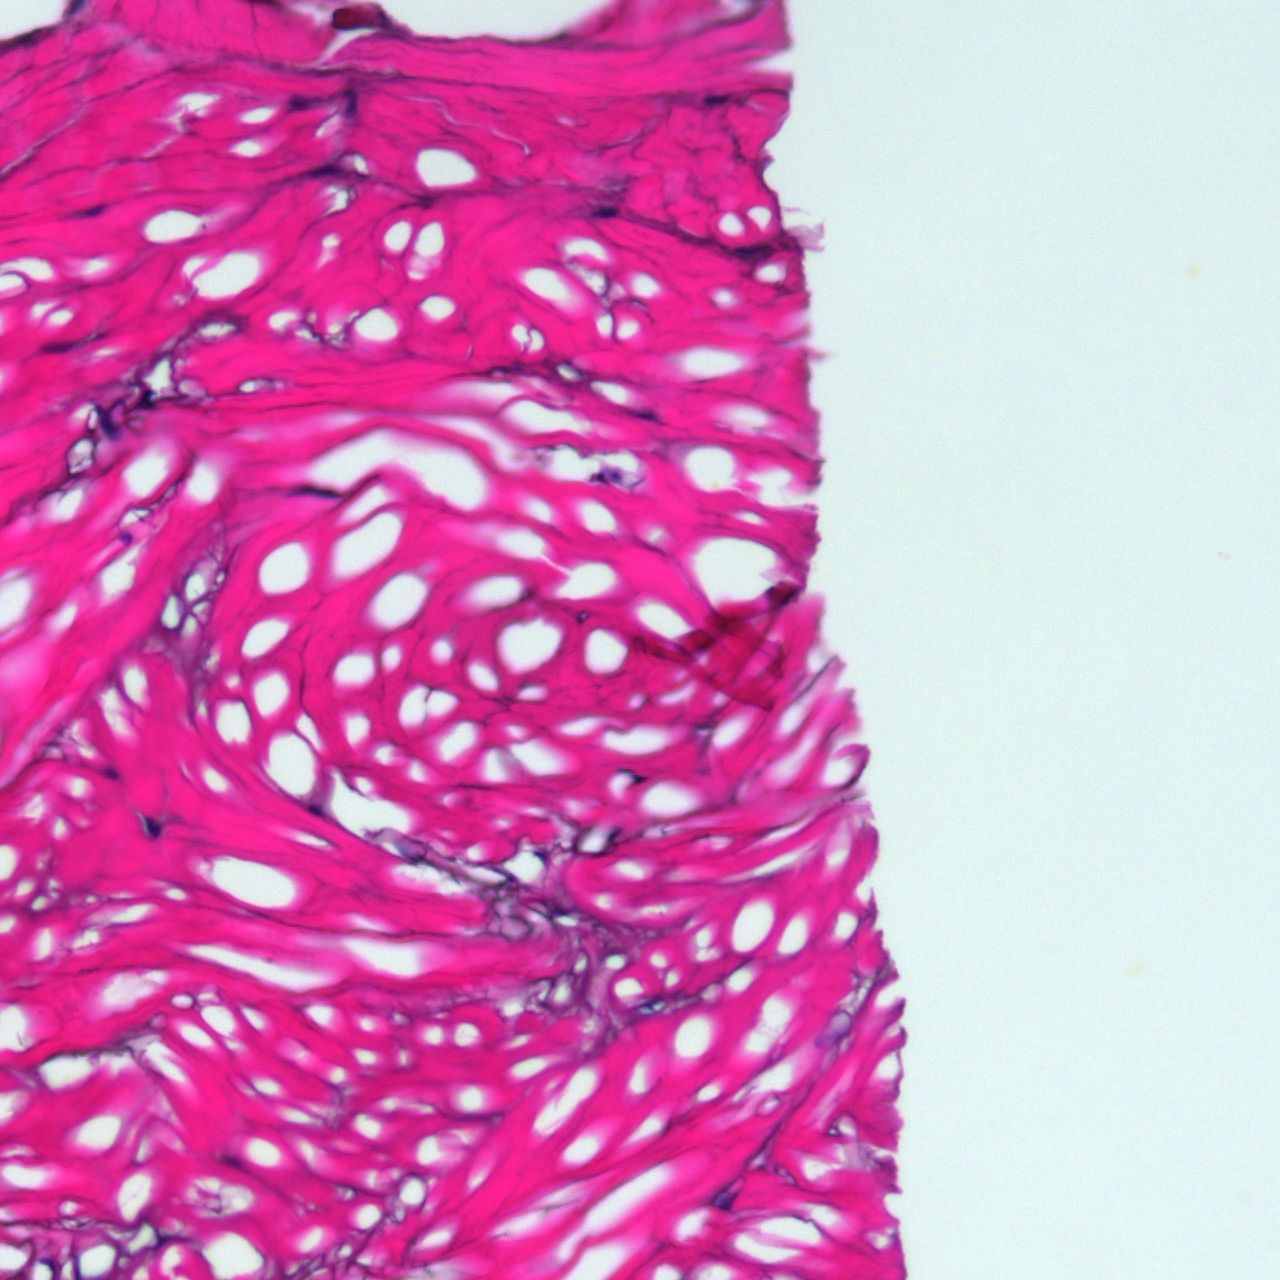nucleus-HE: (93, 402, 118, 436), (297, 486, 338, 498), (144, 815, 163, 837), (312, 164, 335, 179), (308, 801, 325, 818), (704, 95, 727, 105), (599, 207, 617, 216)
